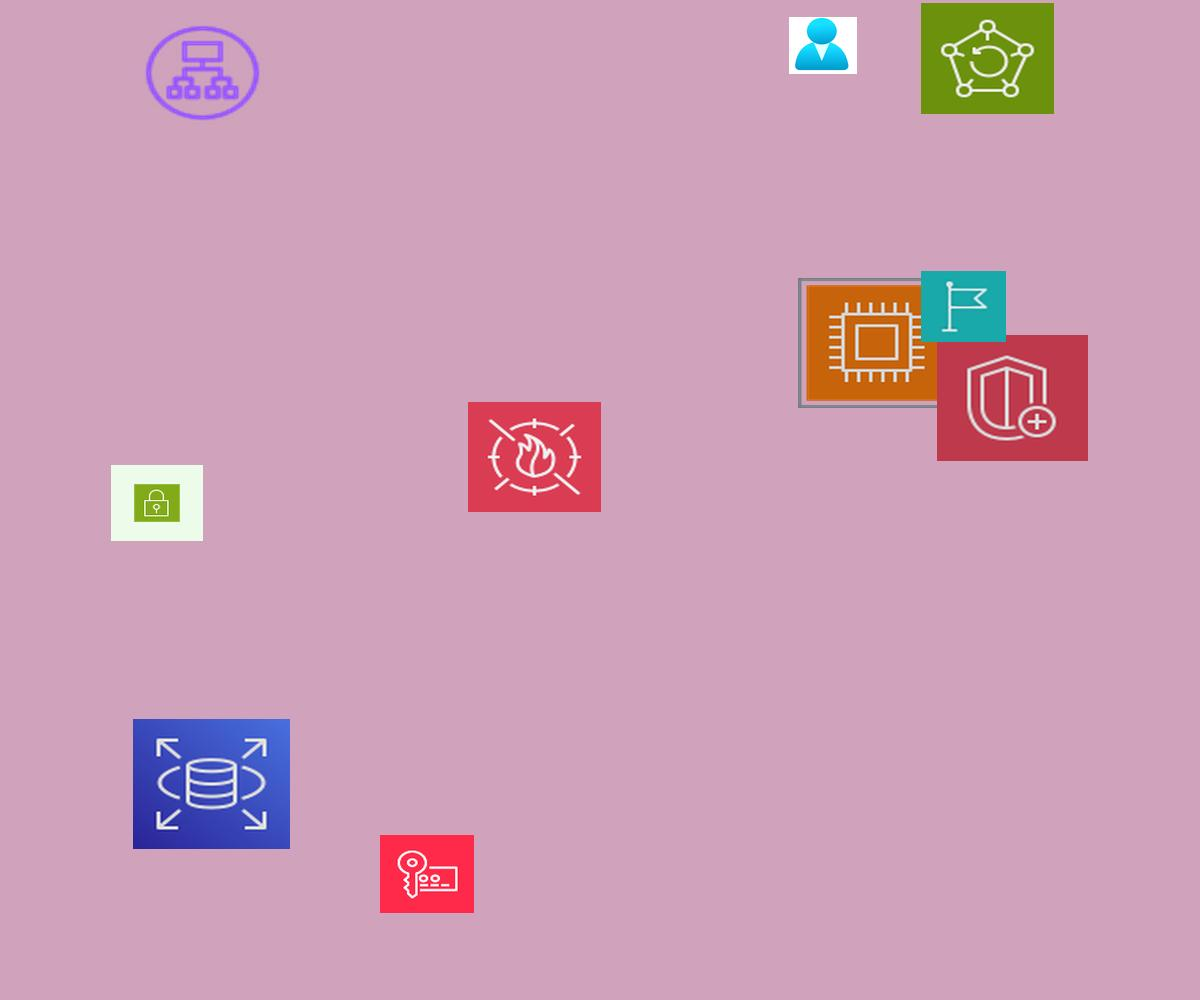AWS-Backup: (921, 3, 1054, 114)
AWS-Category_Compute: (798, 278, 954, 408)
AWS-Key-Management-Service: (380, 835, 474, 913)
AWS-Public-subnet: (111, 465, 203, 541)
AWS-RDS: (133, 719, 290, 849)
AWS-Region: (921, 271, 1006, 342)
AWS-Res_Elastic-Load-Balancing_Application-Load-Balancer: (141, 22, 264, 124)
AWS-Shield: (937, 335, 1088, 461)
AWS-WAF: (468, 402, 601, 512)
Azure_users: (789, 17, 857, 74)
